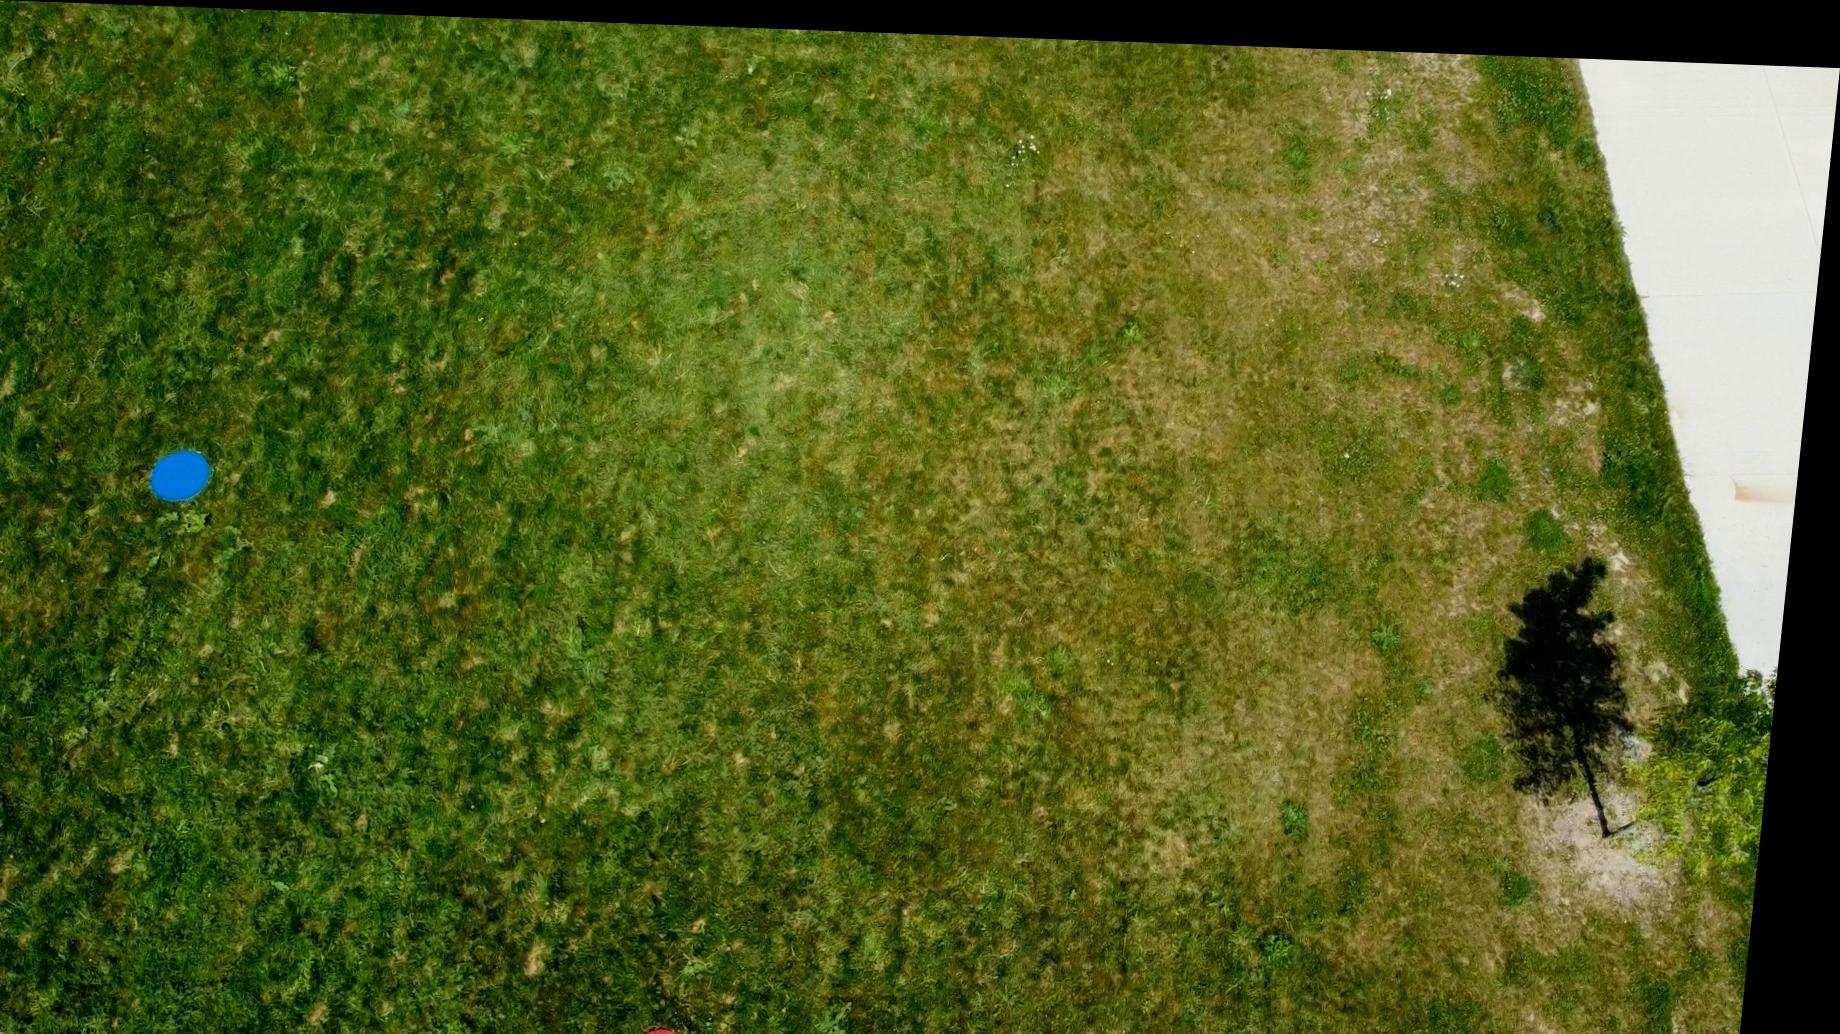Blue: (155, 444, 225, 502)
Red: (647, 1019, 719, 1034)
